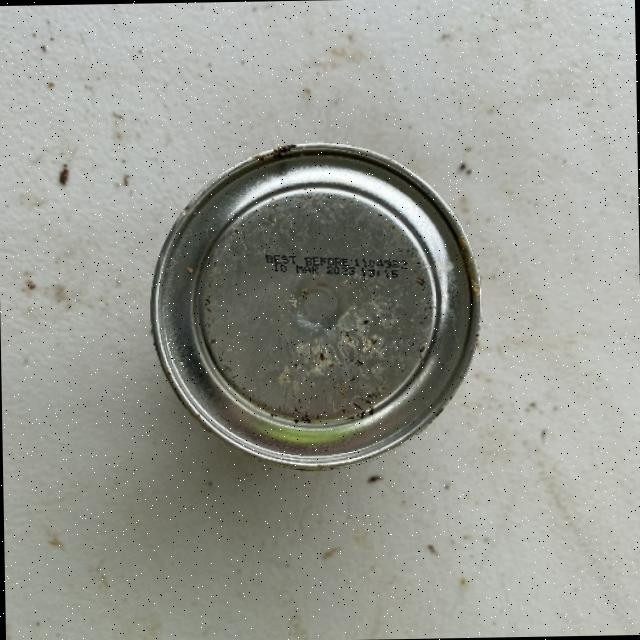metal: (146, 136, 483, 473)
